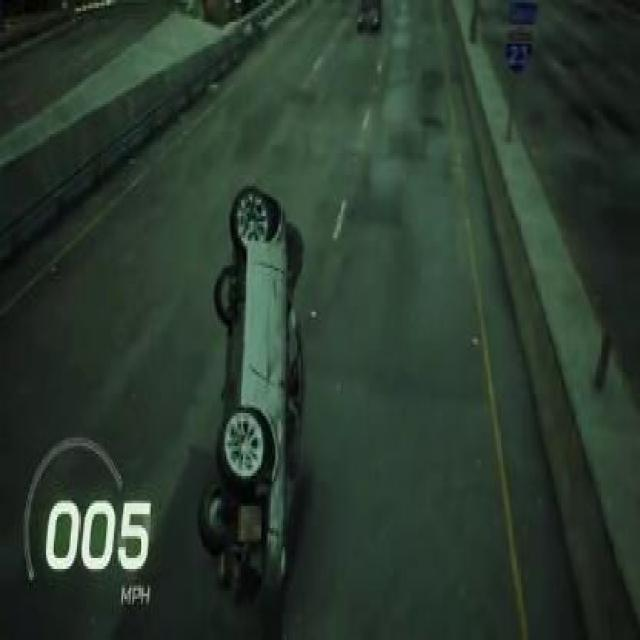accident: (198, 178, 312, 612)
